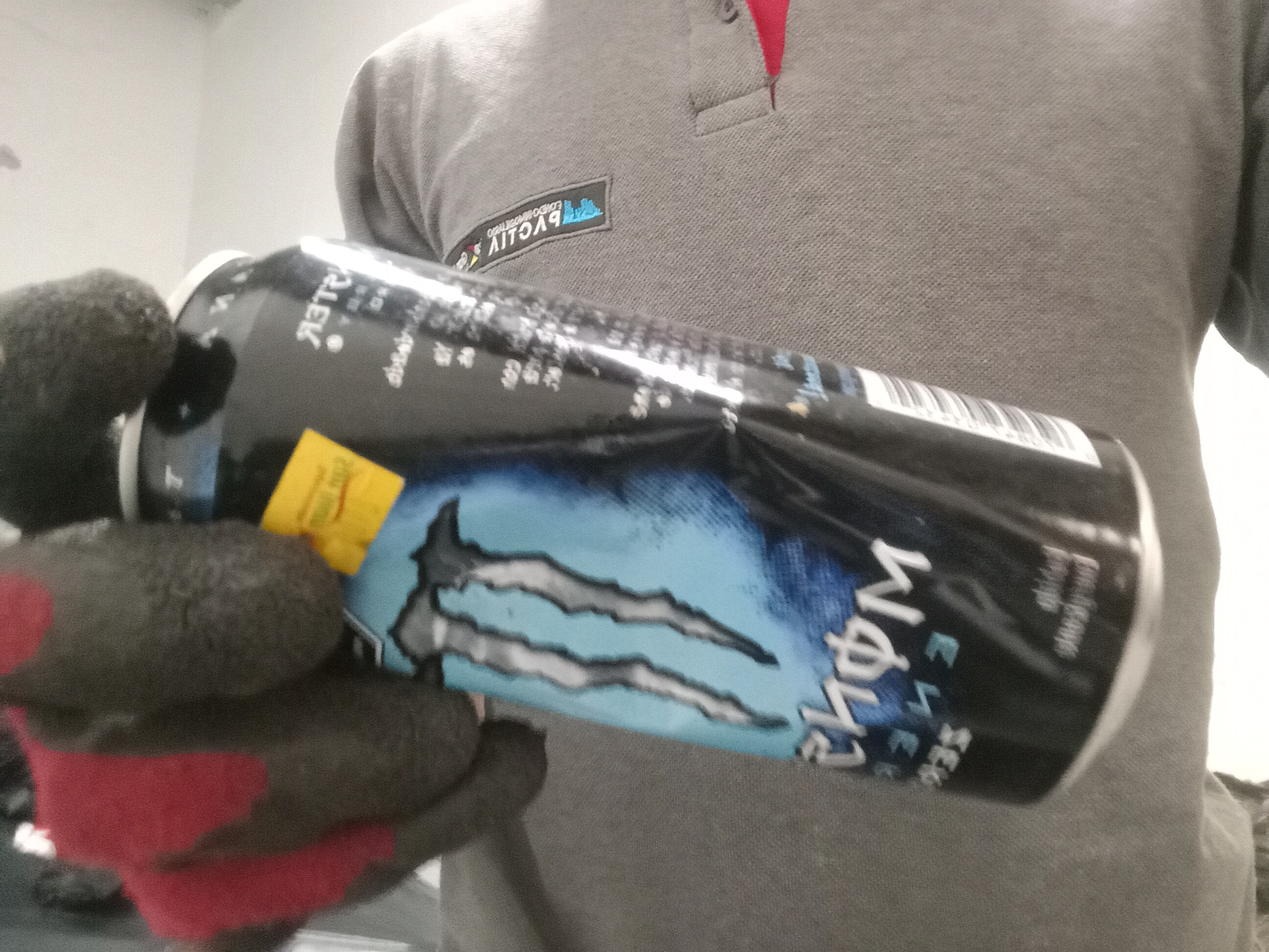Metal: (113, 240, 1167, 807)
